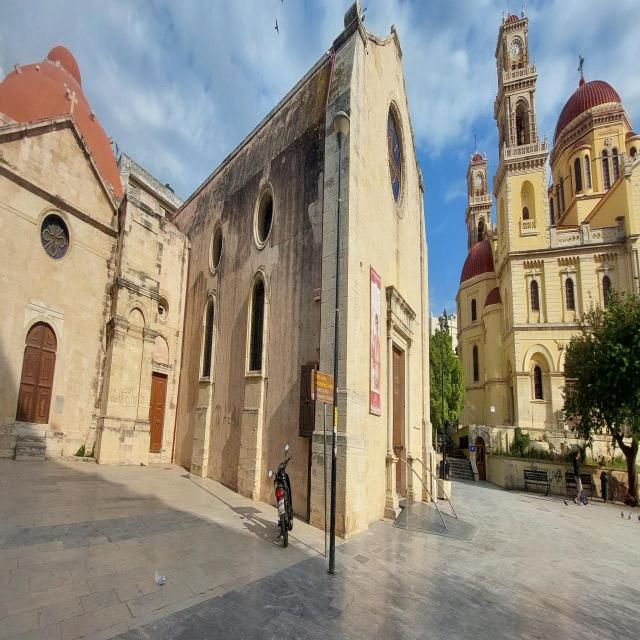Agia Aikaterini: (2, 9, 438, 542)
